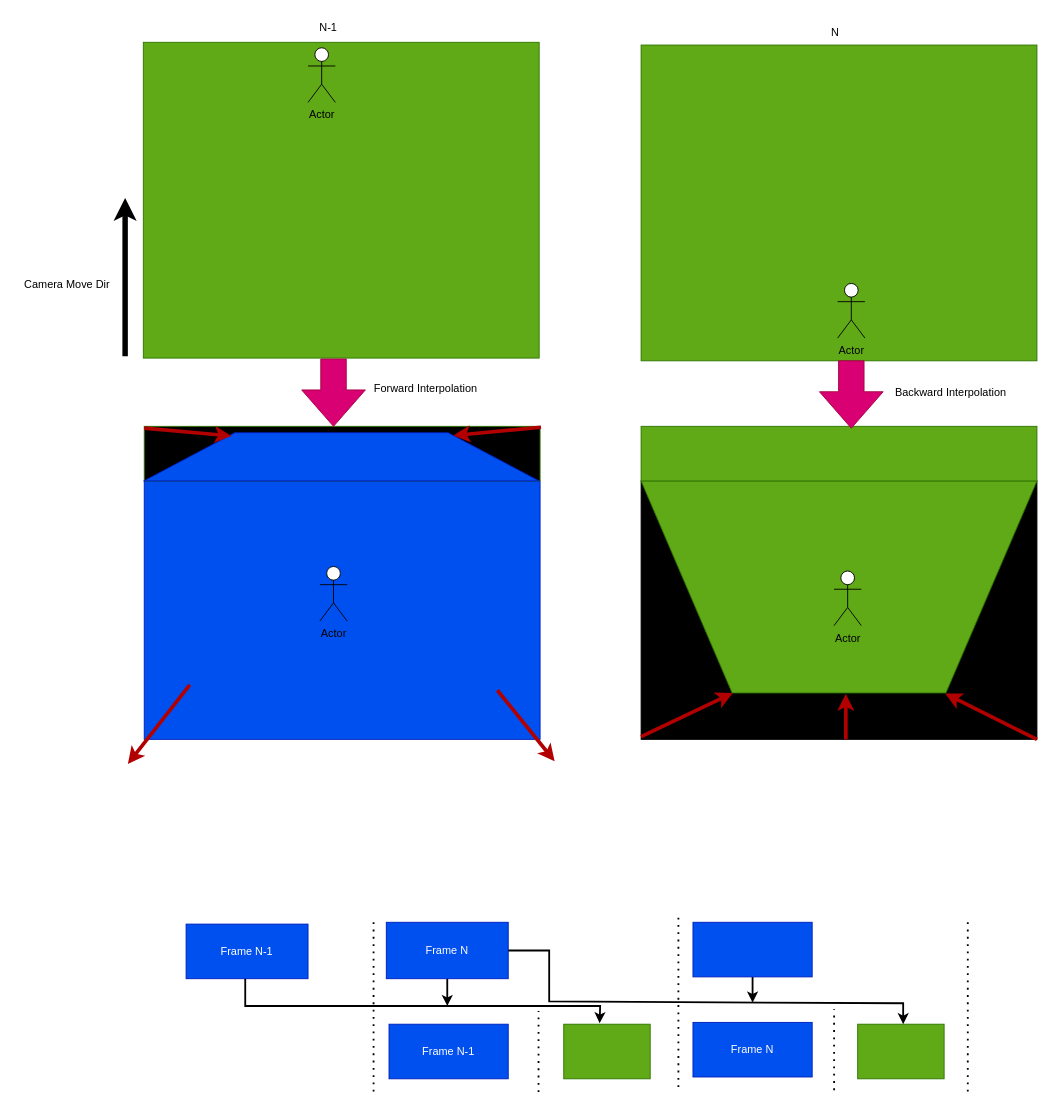
The diagram is 1061 pixels wide and 1109 high, and some of its shapes have lost their labels. Here are the shapes that lost their labels. From the top down, the centre of each, then its label:
At (752,949): "Frame N+1".
At (606,1051): "Frame N-0.5".
At (900,1051): "Frame N+0.5".
